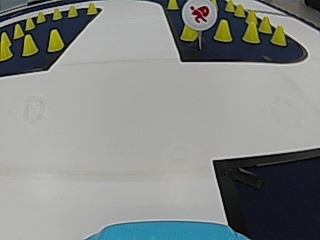thief: (181, 0, 217, 29)
